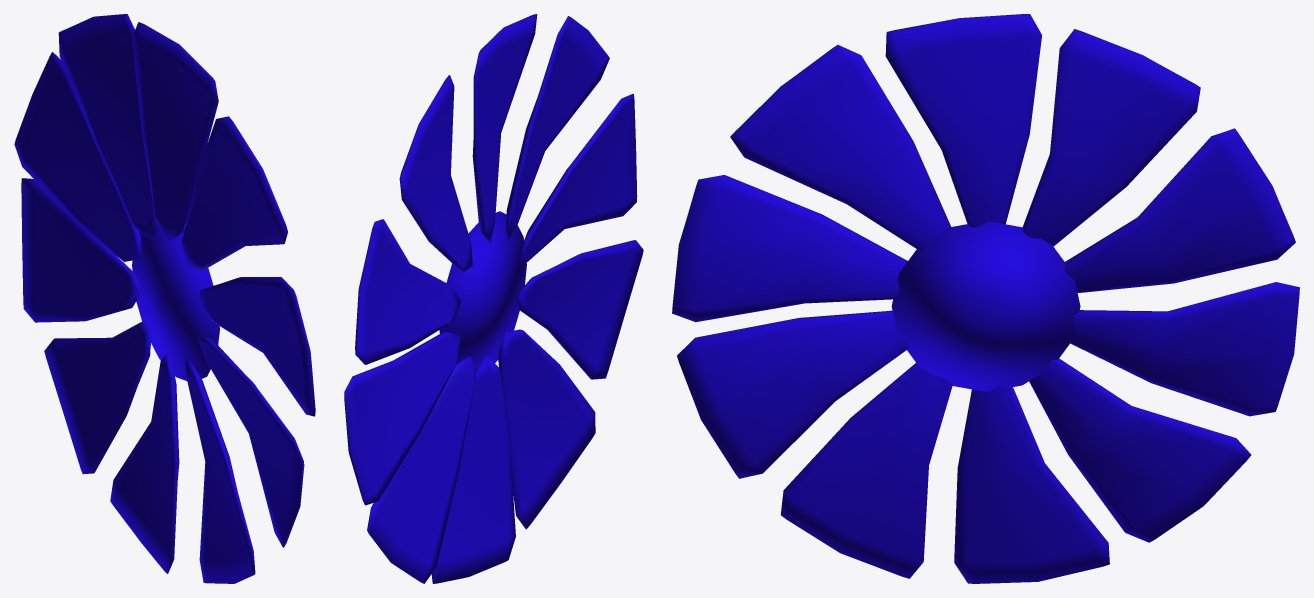
The model's file is MoneyPrinters_Fan_LOD1.fbx.
The picture shows the model from 3 angles, left to right: view 1: azimuth 30°, elevation 25°; view 2: azimuth 150°, elevation 25°; view 3: azimuth 270°, elevation 25°; orthographic projection. The views are drawn at different scales.
Visible parts, largest first — view 1: Fluent_Wire.028; view 2: Fluent_Wire.028; view 3: Fluent_Wire.028.
Boxes of the visible parts, x1,y1,x2,y2 form: Fluent_Wire.028: (14,14,315,583); Fluent_Wire.028: (344,14,643,583); Fluent_Wire.028: (672,14,1299,583).
Bounding box in the file's own units: 0.2862 × 4.16 × 4.16.
